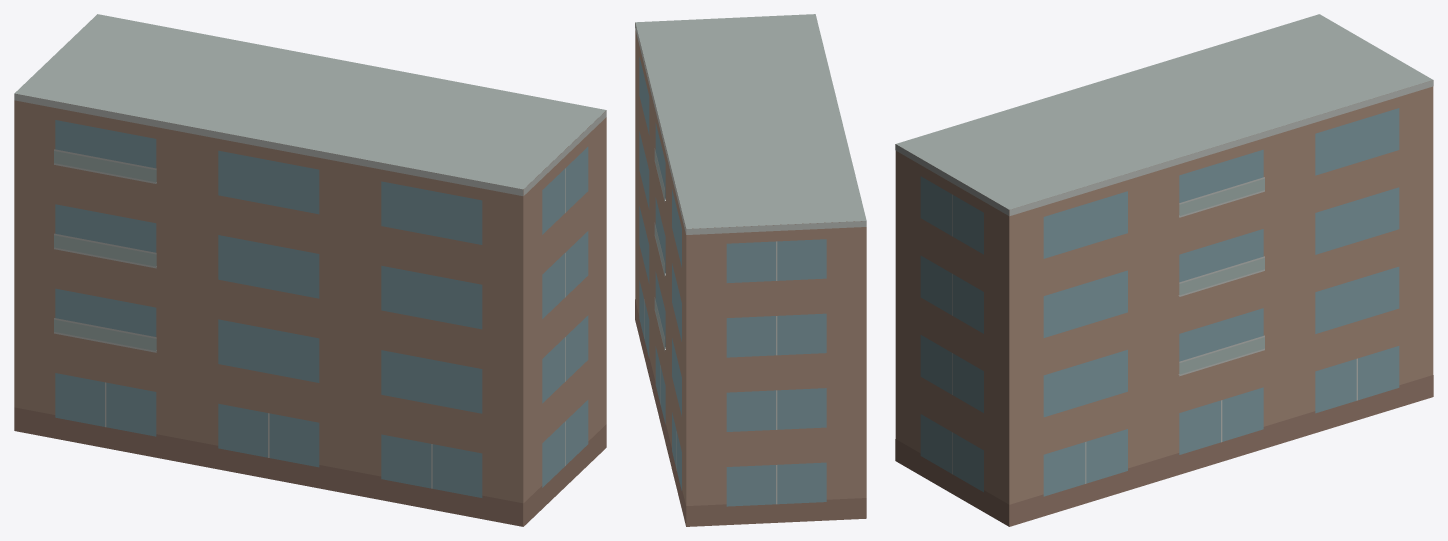
Rendered from survey-upis-32805769.glb.
The picture shows the model from 3 angles, left to right: view 1: azimuth 30°, elevation 25°; view 2: azimuth 150°, elevation 25°; view 3: azimuth 270°, elevation 25°; orthographic projection. The views are drawn at different scales.
Parts seen in each view (by area): view 1: survey-upis-32805769.tmp; view 2: survey-upis-32805769.tmp; view 3: survey-upis-32805769.tmp.
Part boxes in pixels (x1=…): survey-upis-32805769.tmp: x1=14, y1=14, x2=606, y2=526; survey-upis-32805769.tmp: x1=635, y1=14, x2=866, y2=526; survey-upis-32805769.tmp: x1=895, y1=14, x2=1433, y2=526.
Size of the model in its own units: 15.91 by 12 by 18.46.
